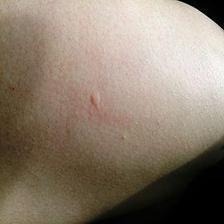Mosquito: (87, 91, 104, 110)
